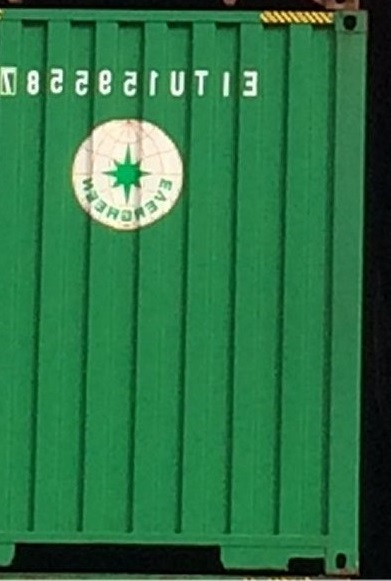container_no_door: (1, 8, 369, 569)
